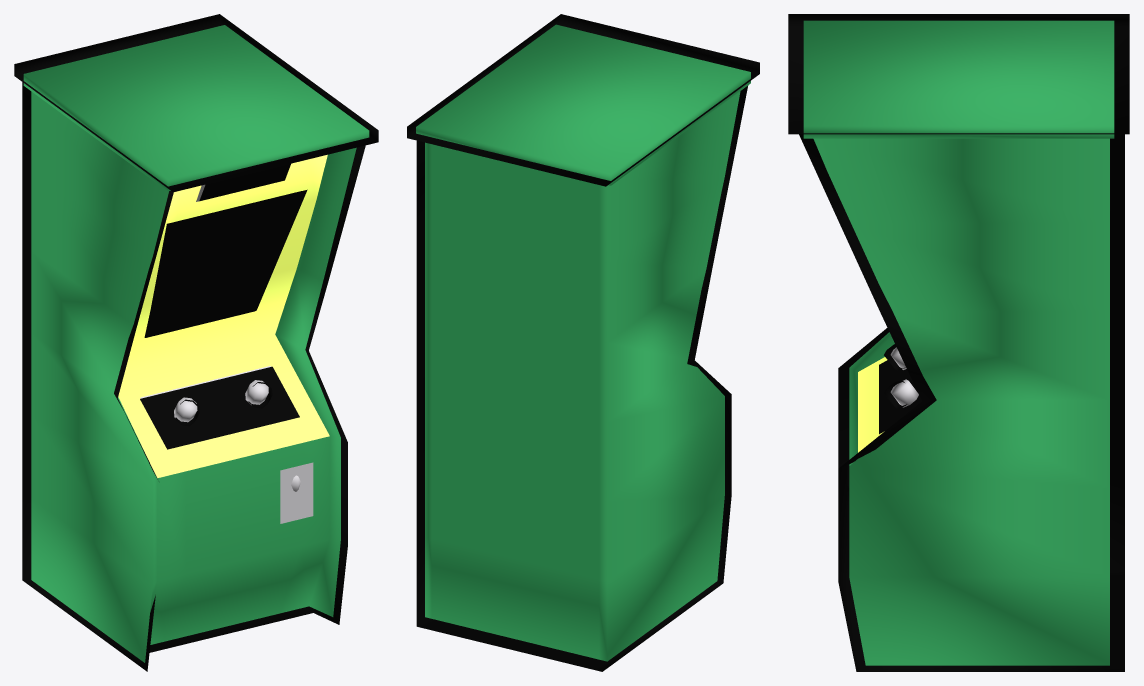
File: pong001.fbx
The picture shows the model from 3 angles, left to right: view 1: azimuth 30°, elevation 25°; view 2: azimuth 150°, elevation 25°; view 3: azimuth 270°, elevation 25°; orthographic projection. The views are drawn at different scales.
Visible parts, largest first — view 1: obj3, obj8, obj2, obj4; view 2: obj3, obj8; view 3: obj3, obj8, obj2, obj4.
Part boxes in pixels (x1,y1,x2,y2): obj3: [23, 25, 369, 662]; obj8: [14, 14, 378, 671]; obj2: [118, 154, 329, 478]; obj4: [140, 366, 313, 523]; obj3: [416, 24, 750, 661]; obj8: [407, 14, 759, 671]; obj3: [803, 20, 1114, 665]; obj8: [788, 14, 1129, 671]; obj2: [858, 357, 887, 452]; obj4: [890, 347, 918, 407].
Bounding box in the file's own units: 0.8235 × 1.98 × 1.1.
